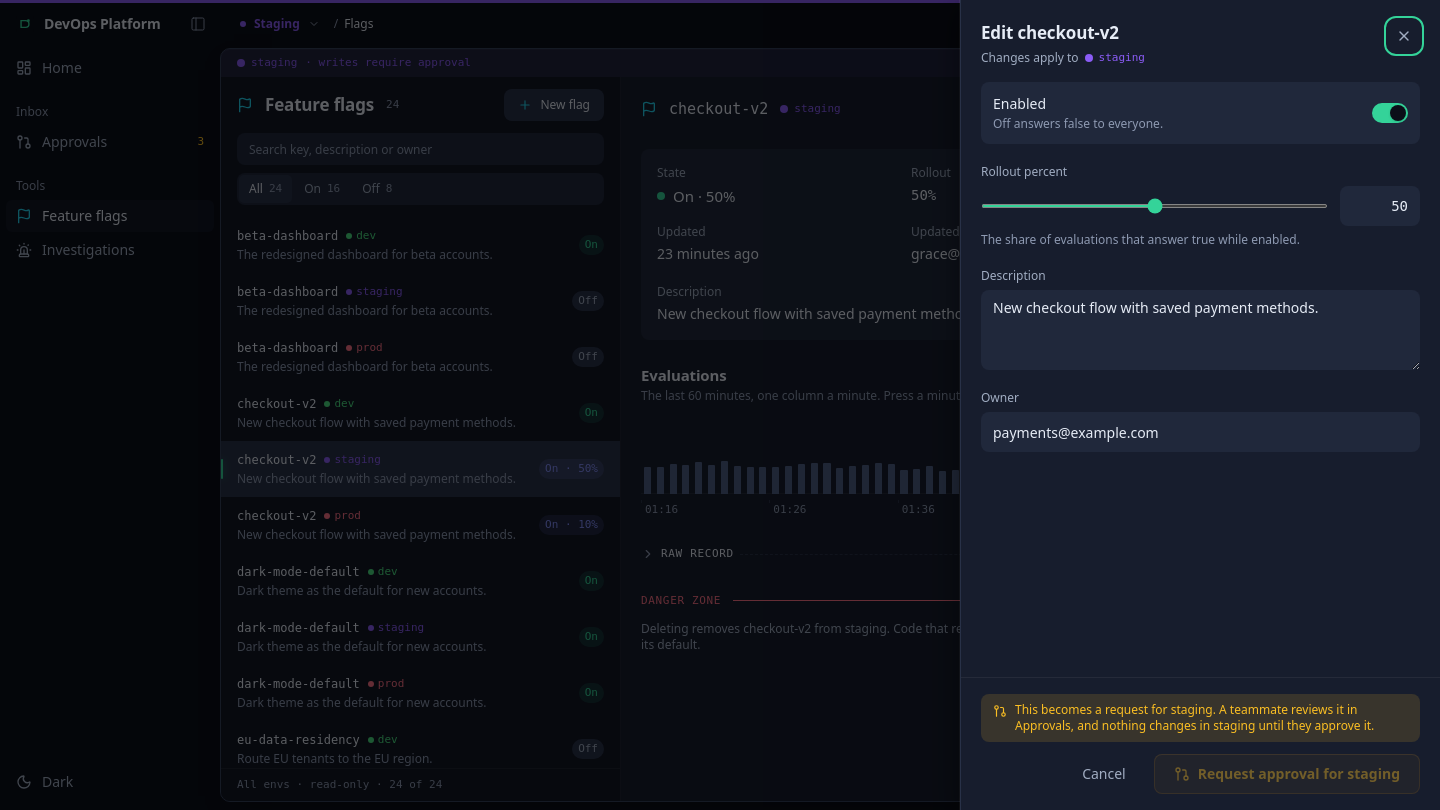
Test case: the flag sheet › turns a staging edit into an approval request, and says so before submit
Expected: the element that starts with "This becomes a request for" shows "A teammate reviews it in Approvals", 1015,701 -> 1357,734
Replace the text in the field labelled "Rollout percent" with "75" at (1380, 206), box 1340,186 -> 1420,226
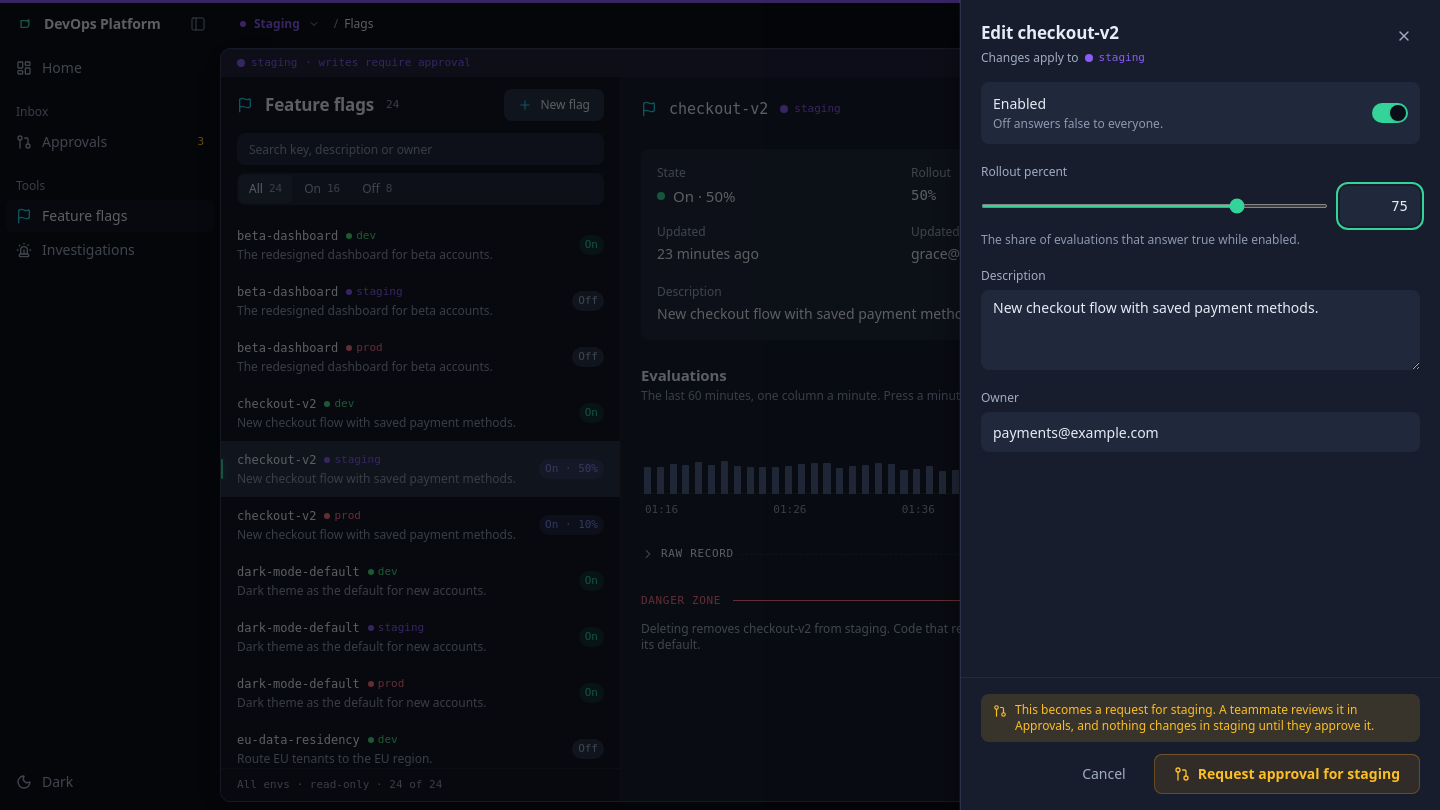
Click the button "Request approval for staging" at (1287, 774), box 1154,754 -> 1420,794
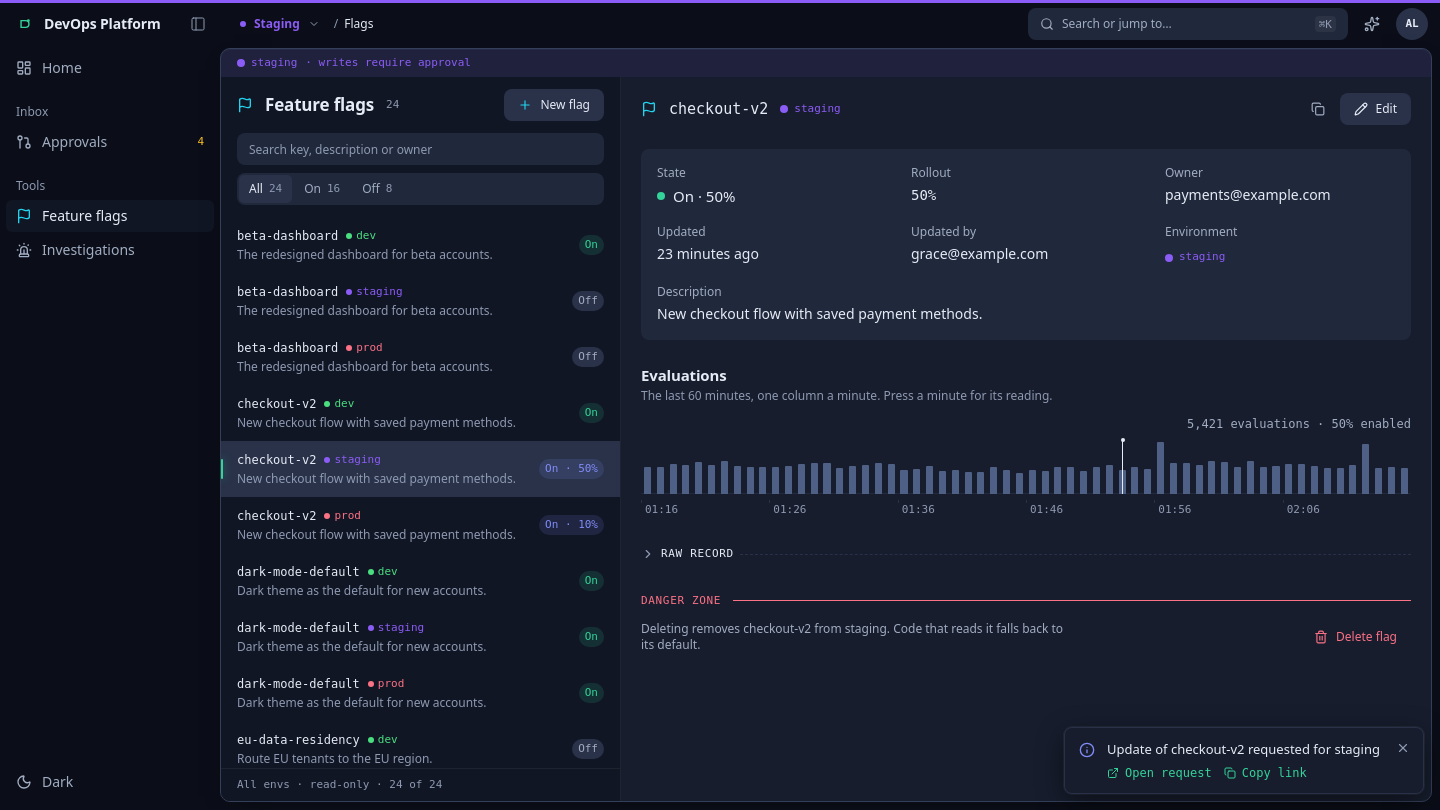
Expected: the text "Update of checkout-v2 requested for staging" is shown, 1107,740 -> 1387,759
